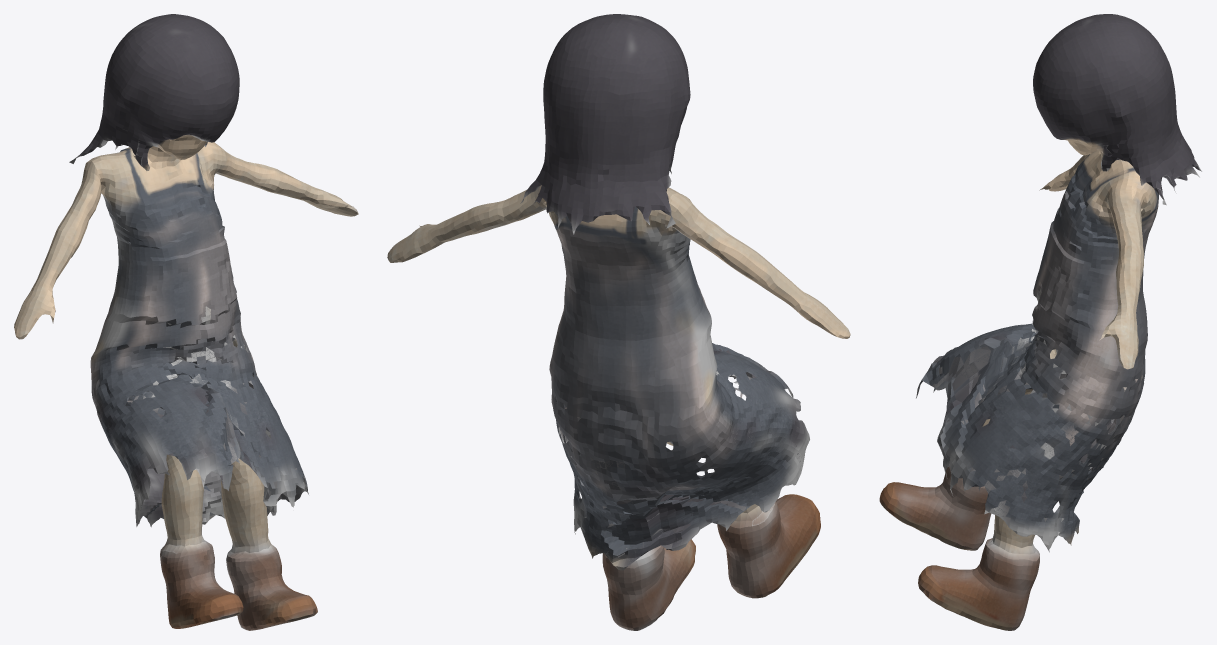
Rendered from Chara_Landing_01.fbx.
3 renders of one model, left to right at view 1: azimuth 30°, elevation 25°; view 2: azimuth 150°, elevation 25°; view 3: azimuth 270°, elevation 25°, orthographic. The views are drawn at different scales.
Visible parts, largest first — view 1: PM3D_ce_ping_ju__jian_mian:Group61707; view 2: PM3D_ce_ping_ju__jian_mian:Group61707; view 3: PM3D_ce_ping_ju__jian_mian:Group61707.
Part boxes in pixels (left/top/right/bottom): PM3D_ce_ping_ju__jian_mian:Group61707: left=14, top=14, right=358, bottom=630; PM3D_ce_ping_ju__jian_mian:Group61707: left=387, top=14, right=850, bottom=630; PM3D_ce_ping_ju__jian_mian:Group61707: left=879, top=14, right=1201, bottom=630.
Bounding box in the file's own units: 0.6453 × 0.9523 × 0.4742.
Materials: 1 (1 with a texture image).
